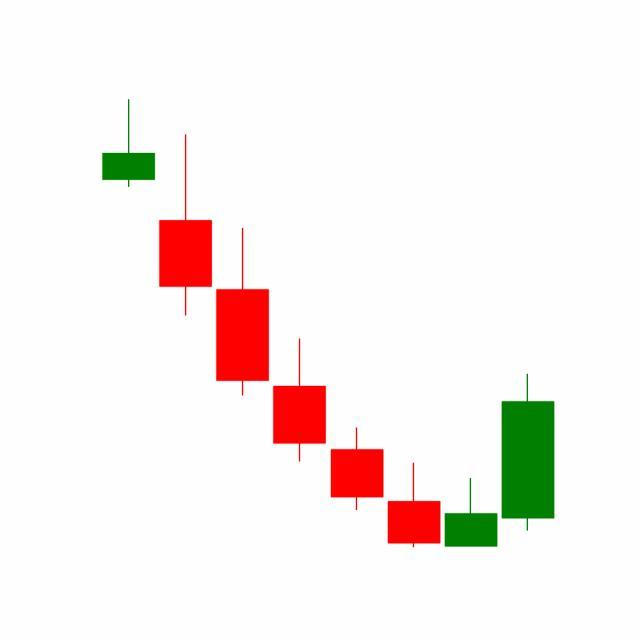Hikkake Pattern: (270, 335, 555, 548)
